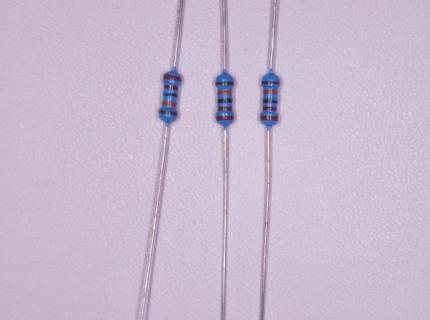Black band: (217, 98, 232, 103), (163, 92, 177, 97), (263, 99, 277, 103)
Brown band: (159, 109, 177, 116), (262, 80, 279, 85), (215, 81, 234, 85)
Orange band: (162, 101, 176, 107), (263, 90, 278, 95), (218, 90, 232, 95)
Red band: (163, 74, 181, 81), (260, 115, 278, 121), (164, 84, 179, 91), (215, 116, 234, 121), (263, 106, 277, 111), (217, 107, 232, 111)
